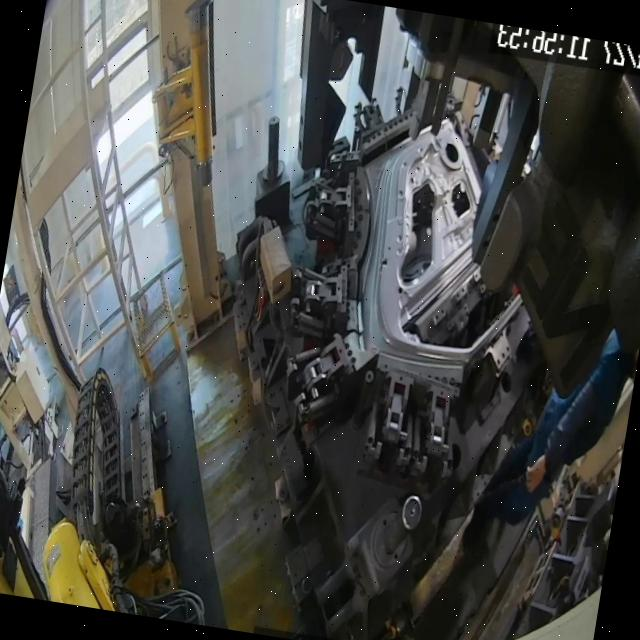Person: (460, 305, 640, 576)
